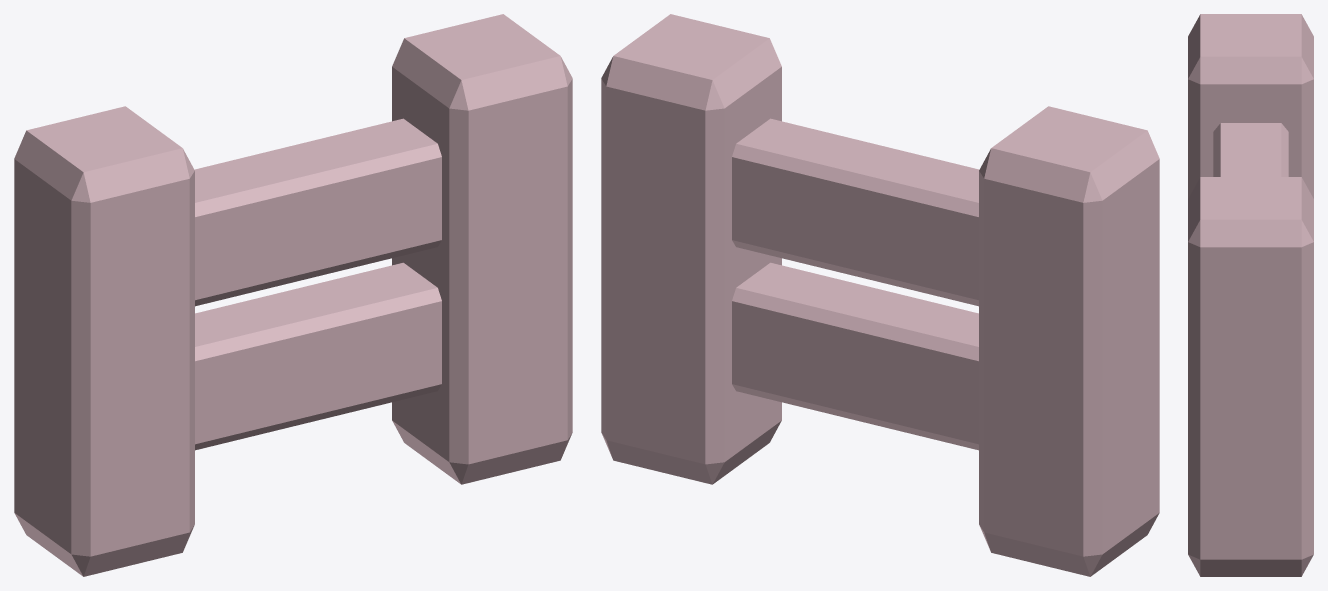
Rendered from PinkFence.fbx.
3 views of the same model, side by side, from view 1: azimuth 30°, elevation 25°; view 2: azimuth 150°, elevation 25°; view 3: azimuth 270°, elevation 25° (orthographic). The views are drawn at different scales.
Visible parts, largest first — view 1: Cube.002, Cube, Cube.003, Cube.001; view 2: Cube.002, Cube, Cube.003, Cube.001; view 3: Cube, Cube.002, Cube.001.
Part boxes in pixels (x1,y1,x2,y2): Cube.002: [14, 106, 194, 576]; Cube: [392, 14, 572, 484]; Cube.003: [195, 262, 441, 450]; Cube.001: [195, 118, 441, 306]; Cube.002: [979, 106, 1159, 576]; Cube: [601, 14, 781, 484]; Cube.003: [732, 262, 978, 450]; Cube.001: [732, 118, 978, 306]; Cube: [1188, 177, 1313, 576]; Cube.002: [1188, 14, 1313, 198]; Cube.001: [1213, 123, 1288, 176].
Bounding box in the file's own units: 206 × 159 × 50.78.
